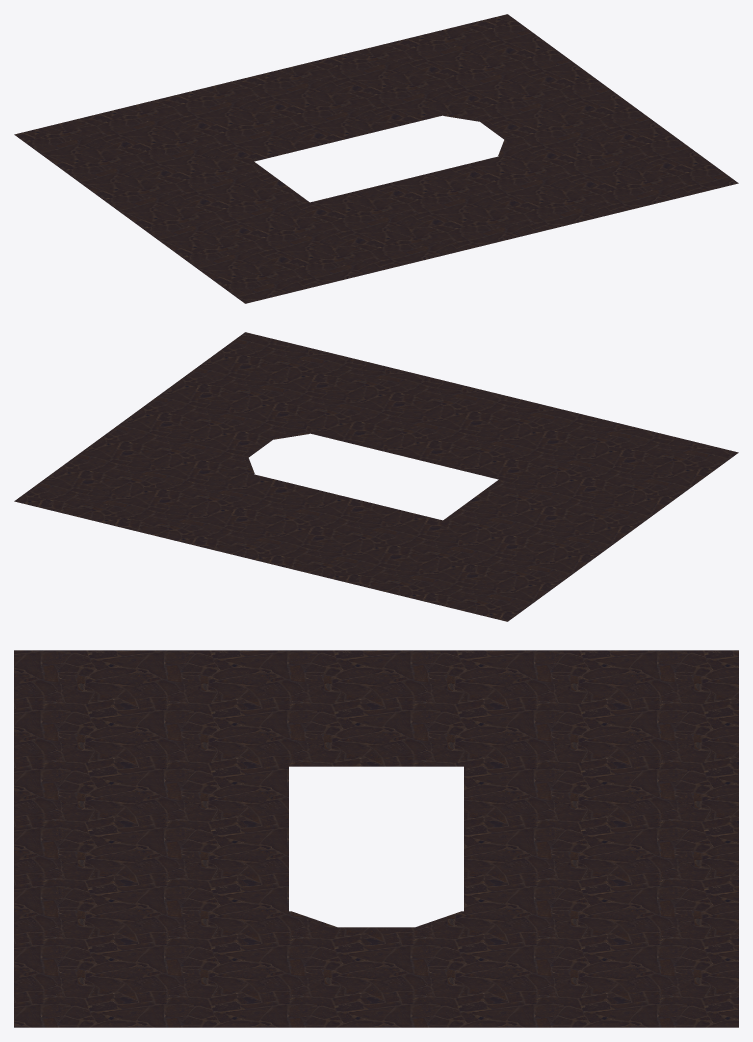
File: mdl_apa_floor_ornamental.gltf
The picture shows the model from 3 angles, top to bottom: view 1: azimuth 30°, elevation 25°; view 2: azimuth 150°, elevation 25°; view 3: azimuth 270°, elevation 25°; orthographic projection. The views are drawn at different scales.
Parts seen in each view (by area): view 1: mdl_apa_floor_ornamental; view 2: mdl_apa_floor_ornamental; view 3: mdl_apa_floor_ornamental.
Part boxes in pixels (<box>): mdl_apa_floor_ornamental: <box>14,14,738,303</box>; mdl_apa_floor_ornamental: <box>14,332,738,621</box>; mdl_apa_floor_ornamental: <box>14,650,738,1027</box>.
Size of the model in its own units: 11.94 by 0 by 9.69.
Materials: 1 (1 with a texture image).
